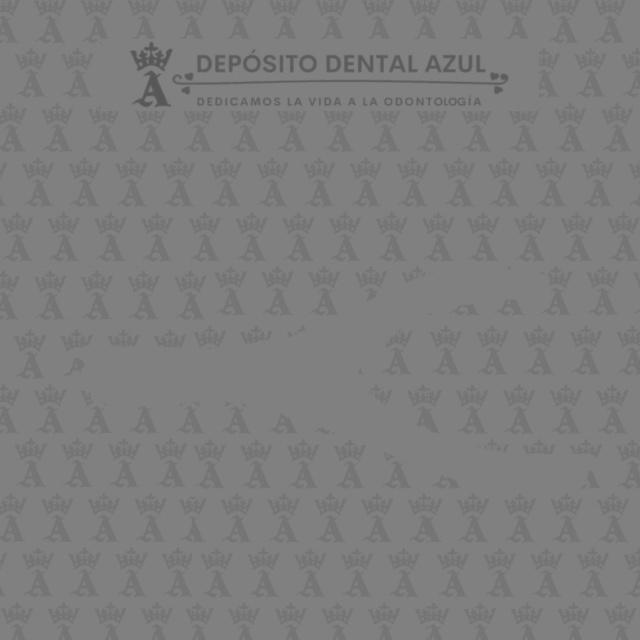gubia: (62, 263, 604, 500)
